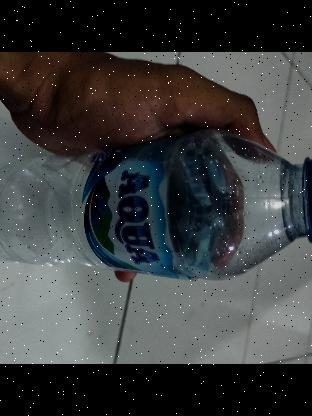Plastic Bottle: (0, 128, 312, 284)
